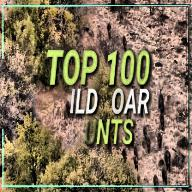boar: (156, 88, 166, 112), (163, 148, 172, 172), (154, 128, 164, 148), (158, 164, 168, 184), (120, 28, 129, 50), (144, 131, 151, 158), (132, 152, 140, 175), (152, 176, 162, 192), (104, 21, 112, 39), (158, 112, 166, 128), (65, 97, 71, 118), (131, 144, 139, 158), (142, 126, 149, 138)
